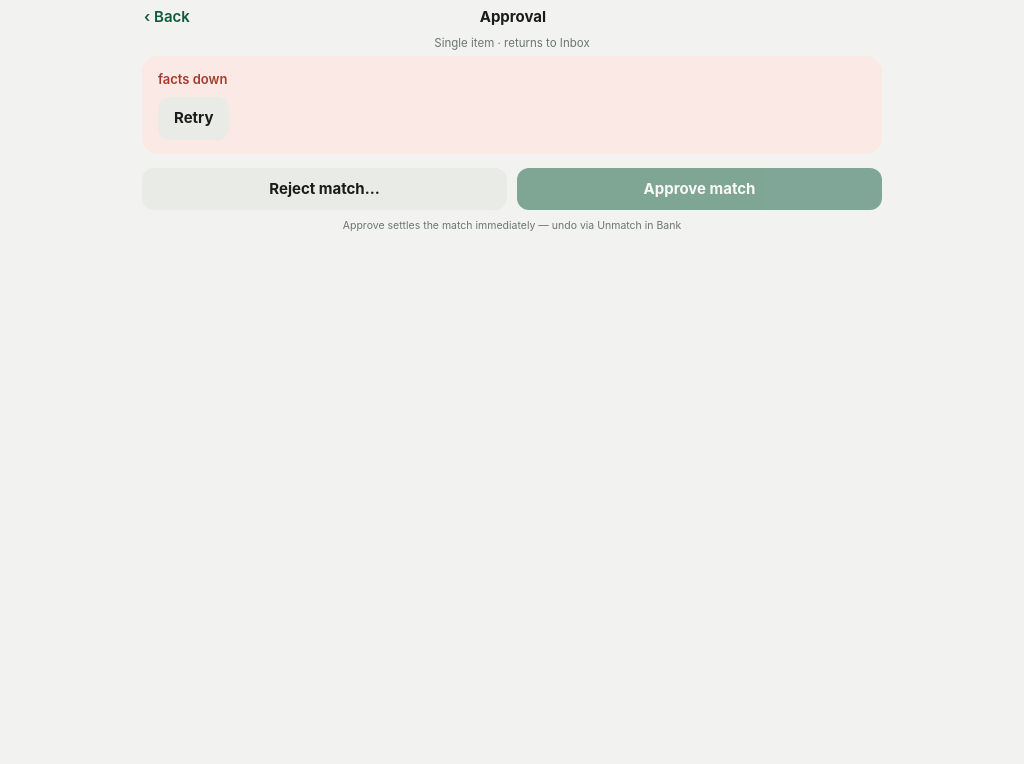
ApprovalScreen › bank-match approval facts (issue #256) › shows a retryable error and keeps Approve off when the facts fail to load
The width and height of the screenshot is (1024, 764).
Check: the text "facts down" is shown, box [158,71,228,87]
Check: the button "Approve match" is disabled, box [517,168,882,210]
Click the button "Retry": (194, 119) [158,97,230,140]
(page scrolled)
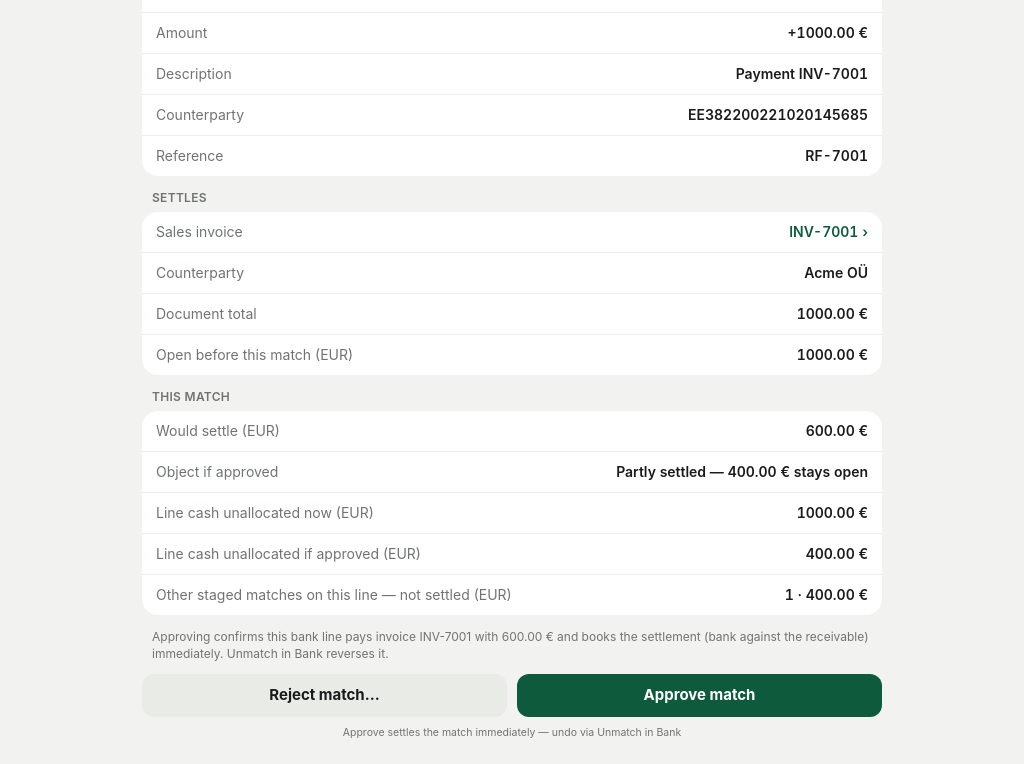
Check: the button "Approve match" is enabled, box [517,674,882,717]
